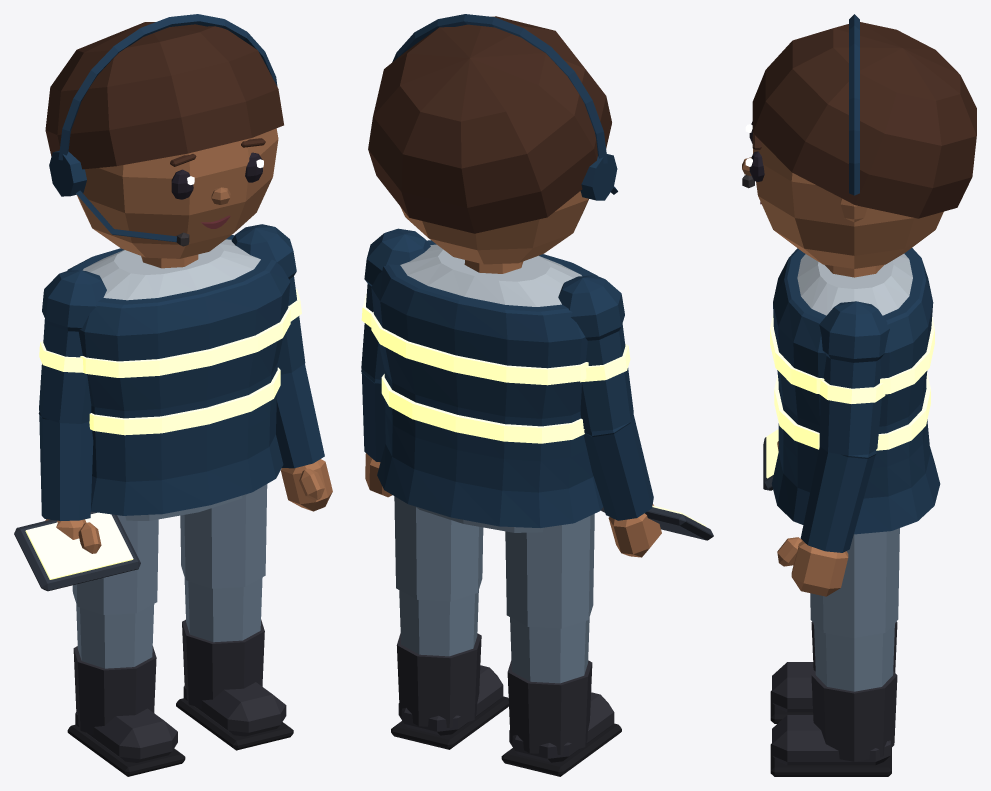
File: rin-n1.glb
3 views of the same model, side by side, from view 1: azimuth 30°, elevation 25°; view 2: azimuth 150°, elevation 25°; view 3: azimuth 270°, elevation 25° (orthographic). The views are drawn at different scales.
Parts seen in each view (by area): view 1: jacke, haare, kopf, arm_r, bein_l, schuh_l, schuh_r, bein_r, signalstreifen, arm_l, gegenstand_terminal, torso (+5 smaller); view 2: jacke, haare, bein_r, arm_r, bein_l, schuh_r, schuh_l, signalstreifen, torso, kopf, arm_l, kopfbedeckung (+2 smaller); view 3: haare, jacke, arm_l, bein_l, kopf, schuh_l, torso, signalstreifen, hand_l, schuh_r, kopfbedeckung, gegenstand_terminal (+2 smaller).
Part boxes in pixels (x1,y1,x2,y2): jacke: (67, 235, 290, 515); haare: (45, 22, 283, 169); kopf: (77, 128, 278, 258); arm_r: (38, 270, 106, 520); bein_l: (180, 484, 267, 642); schuh_l: (176, 619, 293, 750); schuh_r: (67, 646, 185, 776); bein_r: (72, 515, 158, 668); signalstreifen: (80, 306, 290, 435); arm_l: (231, 224, 324, 468); gegenstand_terminal: (14, 511, 140, 591); torso: (82, 239, 260, 300); jacke: (371, 240, 603, 527); haare: (368, 16, 611, 233); bein_r: (505, 514, 594, 683); arm_r: (558, 275, 653, 520); bein_l: (394, 496, 483, 656); schuh_r: (501, 660, 621, 776); schuh_l: (391, 633, 508, 749); signalstreifen: (371, 312, 588, 443); torso: (400, 244, 581, 306); kopf: (400, 191, 588, 264); arm_l: (361, 228, 430, 462); kopfbedeckung: (392, 14, 617, 200); haare: (752, 22, 976, 218); jacke: (771, 248, 940, 534); arm_l: (800, 301, 889, 552); bein_l: (810, 528, 899, 691); kopf: (753, 133, 943, 268); schuh_l: (770, 671, 897, 776); torso: (797, 253, 912, 315); signalstreifen: (770, 314, 934, 450); hand_l: (777, 537, 848, 596); schuh_r: (770, 621, 897, 723); kopfbedeckung: (742, 14, 859, 195); gegenstand_terminal: (763, 429, 778, 490).
Bounding box in the file's own units: 0.0114 × 0.0251 × 0.00749.
